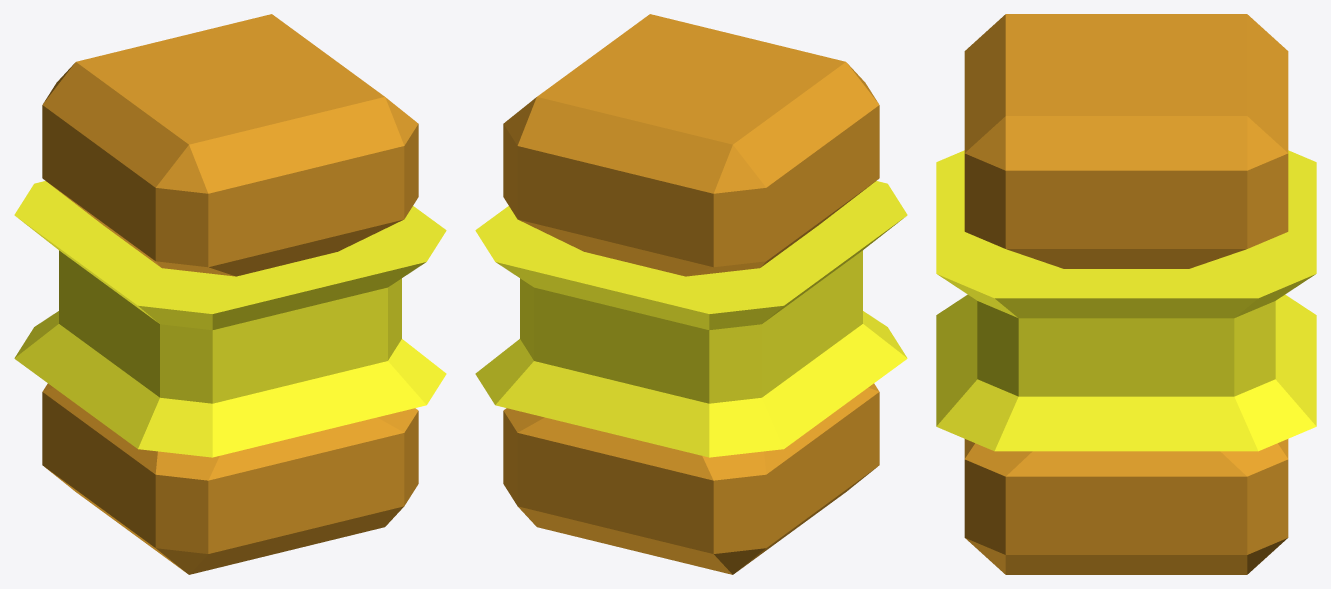
File: Crate1.fbx
The picture shows the model from 3 angles, left to right: view 1: azimuth 30°, elevation 25°; view 2: azimuth 150°, elevation 25°; view 3: azimuth 270°, elevation 25°; orthographic projection. The views are drawn at different scales.
Visible parts, largest first — view 1: Crate2; view 2: Crate2; view 3: Crate2.
Boxes of the visible parts, bbox=[...] form: Crate2: bbox=[14, 14, 446, 574]; Crate2: bbox=[475, 14, 907, 574]; Crate2: bbox=[936, 14, 1316, 574].
Size of the model in its own units: 546 by 727 by 546.
